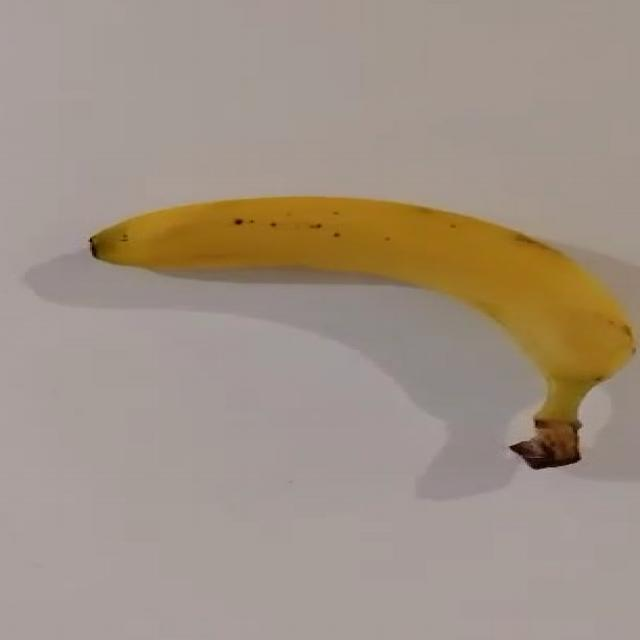Banana: (88, 193, 637, 470)
